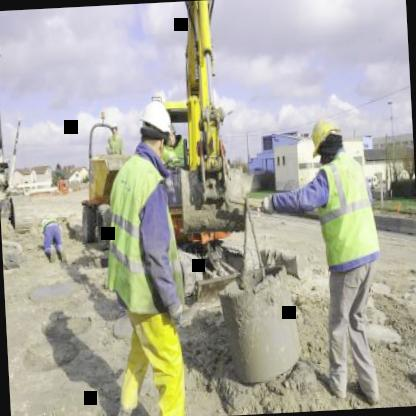helmet: (137, 99, 172, 157), (310, 114, 342, 156)
